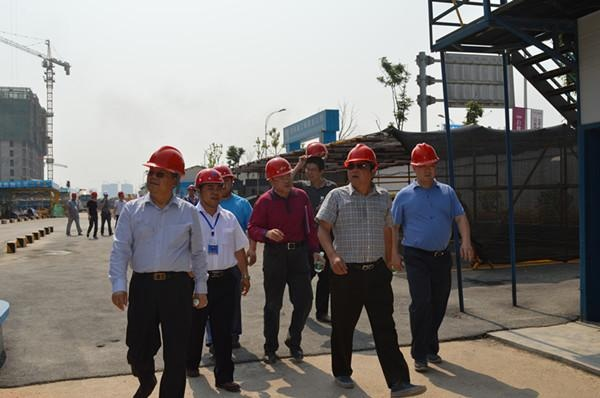blue: (102, 191, 109, 199)
none: (303, 155, 326, 182)
red: (144, 146, 184, 198), (345, 143, 378, 186), (409, 140, 438, 182), (263, 157, 295, 193), (195, 169, 224, 206), (214, 164, 233, 195), (186, 185, 196, 195), (90, 191, 98, 200), (118, 191, 125, 200), (70, 192, 77, 201)
